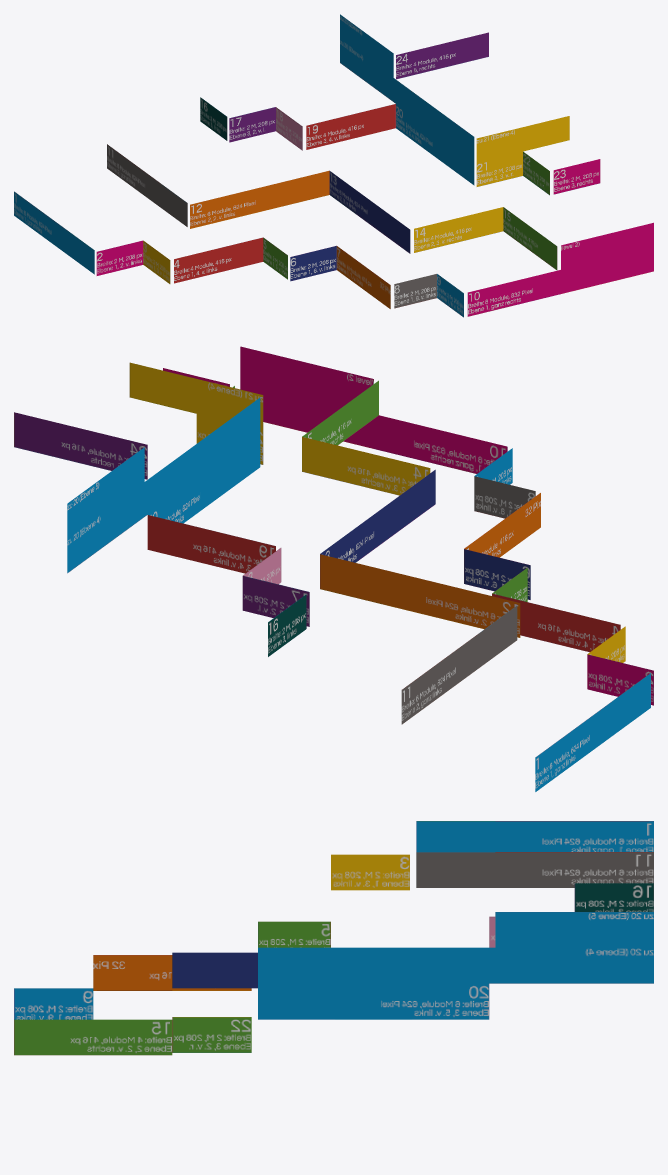
The model's file is stage_with_uvs_for_td.fbx.
The picture shows the model from 3 angles, top to bottom: view 1: azimuth 30°, elevation 25°; view 2: azimuth 150°, elevation 25°; view 3: azimuth 270°, elevation 25°; orthographic projection. The views are drawn at different scales.
Visible parts, largest first — view 1: Body6; view 2: Body6; view 3: Body6.
Boxes of the visible parts, left/top/right/bottom form: Body6: left=14, top=14, right=653, bottom=317; Body6: left=14, top=346, right=653, bottom=791; Body6: left=14, top=821, right=653, bottom=1055.
Bounding box in the file's own units: 8078 × 2500 × 9078.
